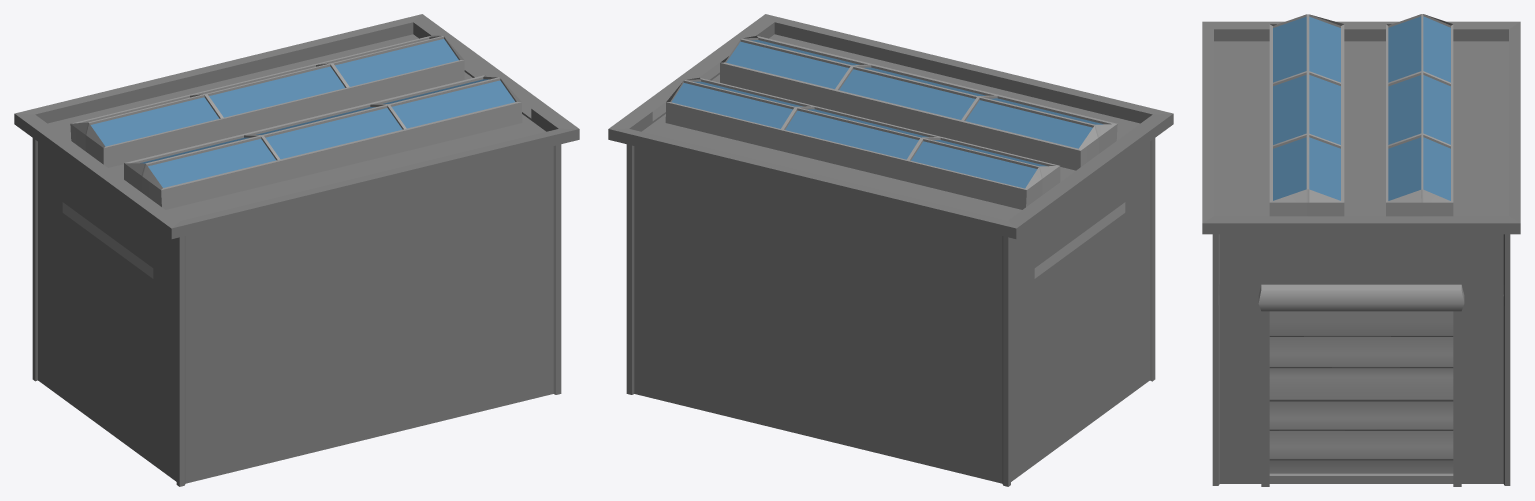
File: dockgarage.fbx
3 views of the same model, side by side, from view 1: azimuth 30°, elevation 25°; view 2: azimuth 150°, elevation 25°; view 3: azimuth 270°, elevation 25° (orthographic).
Visible parts, largest first — view 1: polySurface21, polySurface20, polySurface17, polySurface5, polySurface7, polySurface2, polySurface3, polySurface8, polySurface10; view 2: polySurface21, polySurface20, polySurface17, polySurface6, polySurface4, polySurface12, polySurface9, polySurface13, polySurface11; view 3: polySurface21, polySurface15, polySurface22, polySurface20, polySurface17, polySurface5, polySurface7, polySurface6, polySurface3, polySurface2, polySurface10, polySurface8 (+5 smaller).
Part boxes in pixels (left/top/right/bottom): polySurface21: left=14, top=14, right=579, bottom=486; polySurface20: left=124, top=75, right=522, bottom=209; polySurface17: left=70, top=35, right=464, bottom=167; polySurface5: left=265, top=108, right=402, bottom=159; polySurface7: left=209, top=66, right=344, bottom=117; polySurface2: left=148, top=139, right=276, bottom=187; polySurface3: left=90, top=97, right=219, bottom=146; polySurface8: left=392, top=80, right=514, bottom=128; polySurface10: left=335, top=39, right=458, bottom=86; polySurface21: left=608, top=14, right=1173, bottom=486; polySurface20: left=720, top=35, right=1117, bottom=170; polySurface17: left=665, top=77, right=1060, bottom=209; polySurface6: left=839, top=69, right=975, bottom=119; polySurface4: left=965, top=100, right=1092, bottom=148; polySurface12: left=785, top=110, right=918, bottom=159; polySurface9: left=726, top=41, right=848, bottom=89; polySurface13: left=911, top=141, right=1037, bottom=188; polySurface11: left=672, top=83, right=792, bottom=128; polySurface21: left=1202, top=21, right=1520, bottom=486; polySurface15: left=1269, top=311, right=1453, bottom=483; polySurface22: left=1258, top=284, right=1464, bottom=311; polySurface20: left=1269, top=14, right=1344, bottom=216; polySurface17: left=1386, top=14, right=1453, bottom=216; polySurface5: left=1273, top=75, right=1306, bottom=144; polySurface7: left=1388, top=75, right=1421, bottom=144; polySurface6: left=1309, top=75, right=1340, bottom=144; polySurface3: left=1388, top=16, right=1421, bottom=82; polySurface2: left=1273, top=16, right=1306, bottom=82; polySurface10: left=1388, top=137, right=1421, bottom=200; polySurface8: left=1273, top=137, right=1306, bottom=200.
Size of the model in its own units: 6.5 by 4.33 by 4.32.
